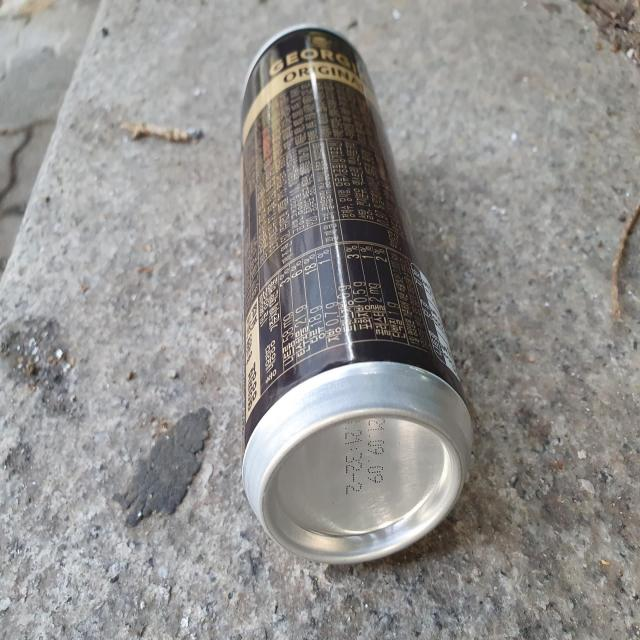can: (242, 24, 473, 564)
